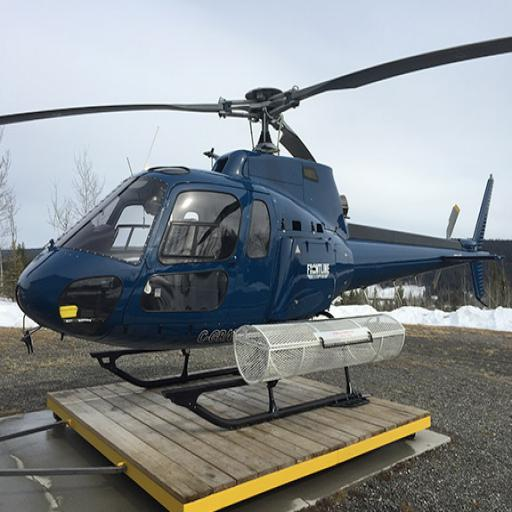helicopter: (8, 32, 511, 443)
